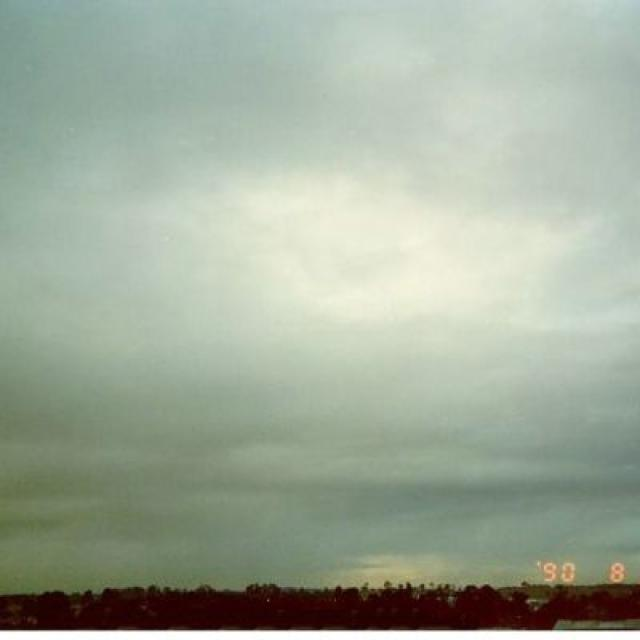nimbostratus: (0, 0, 635, 536)
